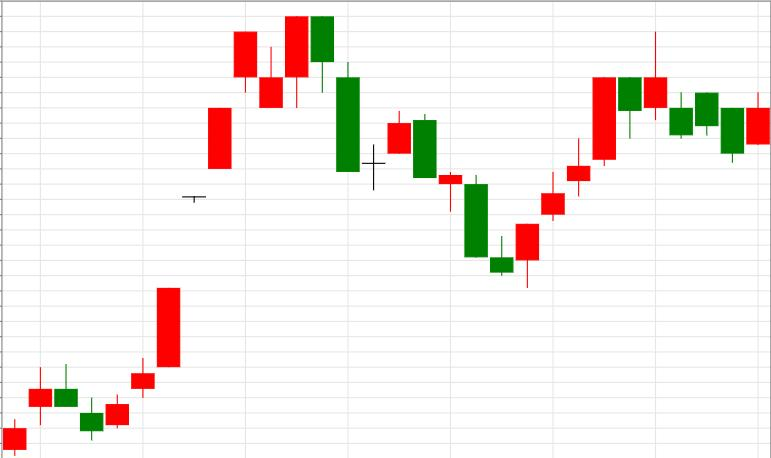morning_star_rise: (311, 16, 539, 288)
shooting_star_fall: (516, 31, 668, 288)
